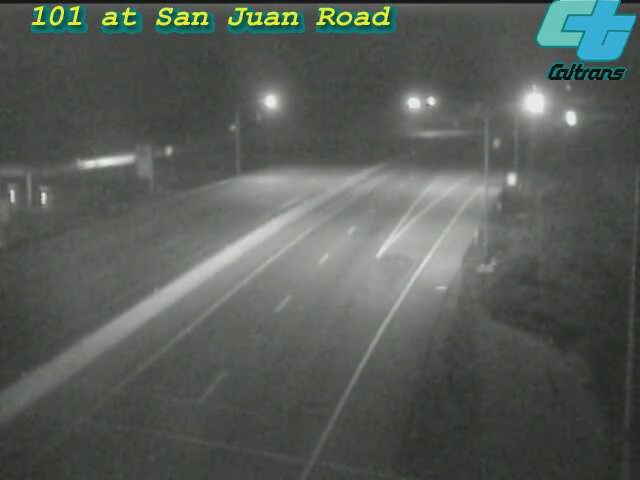vehicle: (548, 94, 598, 144), (506, 78, 556, 128)
